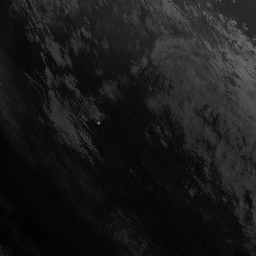Target: (95, 120, 100, 125)
